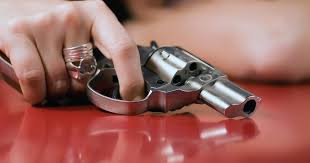Gun: (142, 40, 244, 122)
